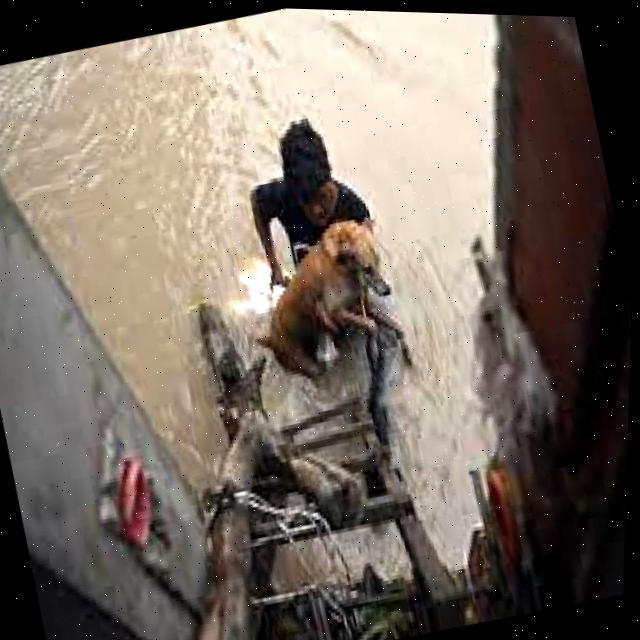civilian: (224, 105, 388, 289)
dog: (228, 198, 424, 408)
